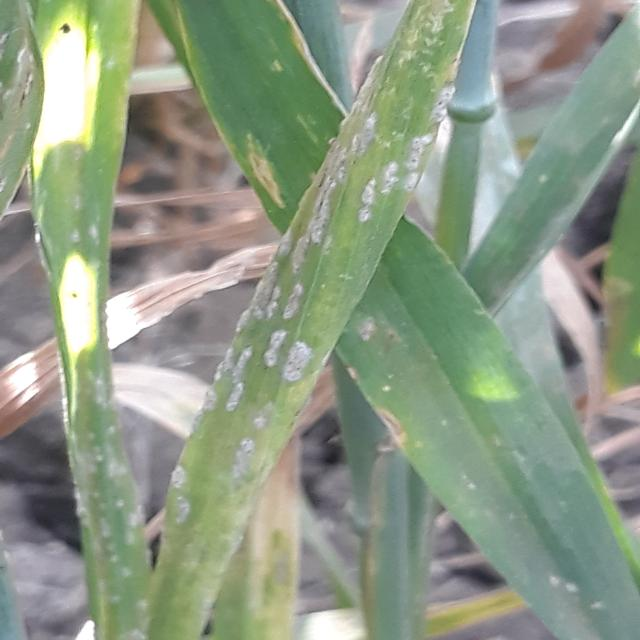powder_mildew: (151, 0, 494, 640), (0, 4, 144, 640), (488, 383, 640, 640)
